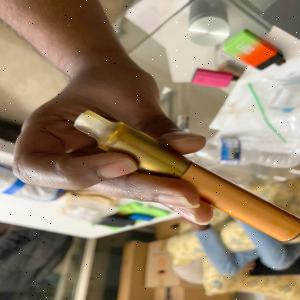Golden-E-Ciggirate: (71, 109, 300, 244)
